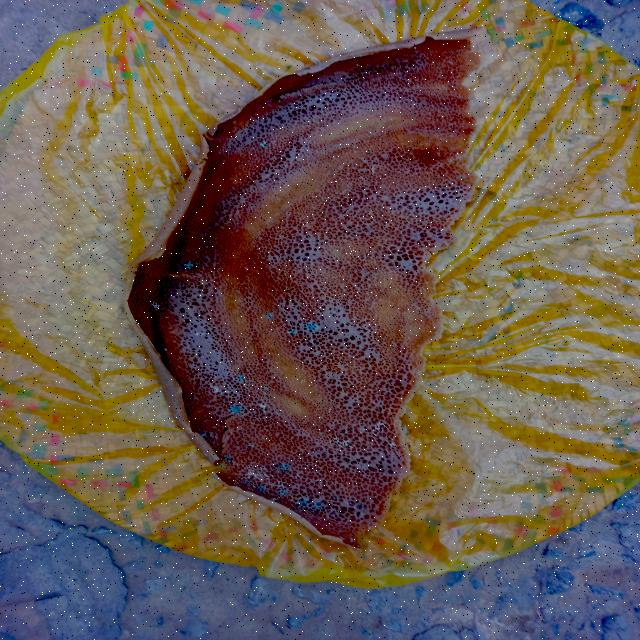injera_mold: (244, 466, 270, 482), (206, 382, 233, 394), (371, 421, 392, 436), (330, 436, 354, 449), (228, 404, 246, 415), (149, 300, 162, 310), (304, 322, 318, 331), (279, 463, 292, 471), (183, 261, 195, 269), (275, 481, 287, 488), (289, 472, 300, 479), (314, 501, 323, 509), (278, 490, 288, 497), (298, 499, 309, 505), (224, 454, 233, 461), (264, 313, 274, 319), (258, 486, 266, 492), (299, 379, 307, 385), (355, 504, 362, 510), (259, 404, 267, 409), (388, 443, 398, 447), (288, 330, 298, 334), (260, 141, 266, 147), (263, 386, 270, 391), (349, 538, 354, 544), (248, 444, 255, 448), (238, 376, 245, 380), (328, 408, 333, 413), (367, 527, 372, 531), (359, 514, 364, 518), (195, 332, 200, 336), (200, 433, 205, 437), (264, 411, 266, 413)
